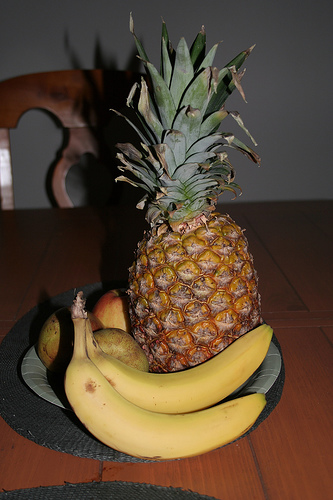pineapple: (112, 10, 266, 375)
